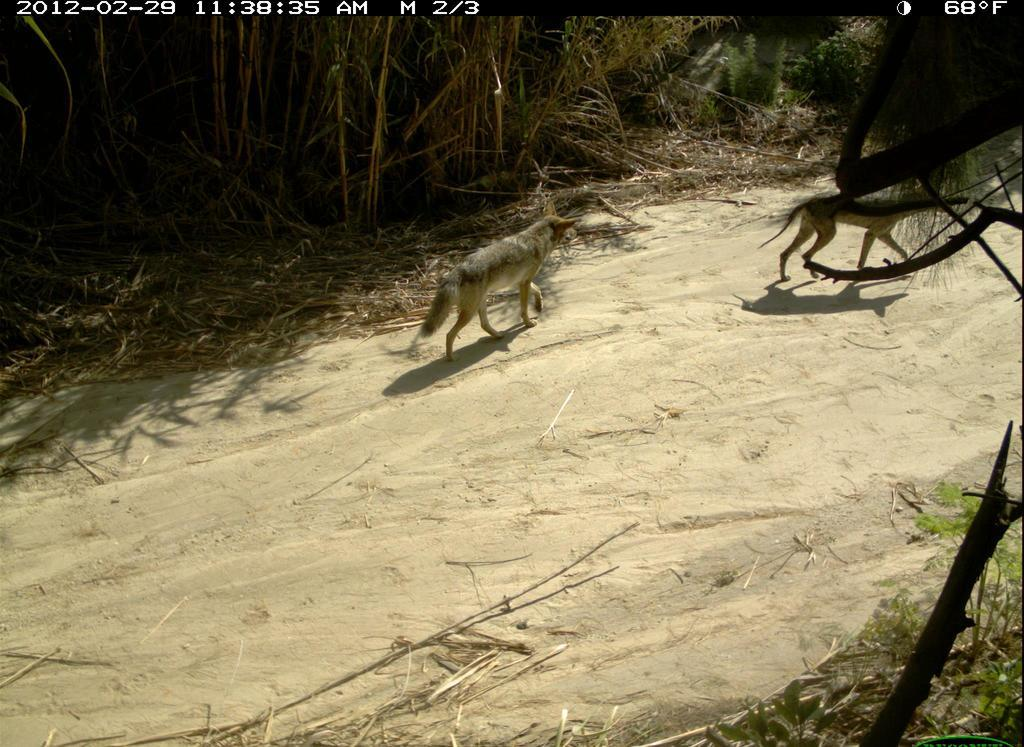coyote: (414, 194, 581, 372), (755, 176, 944, 290)
